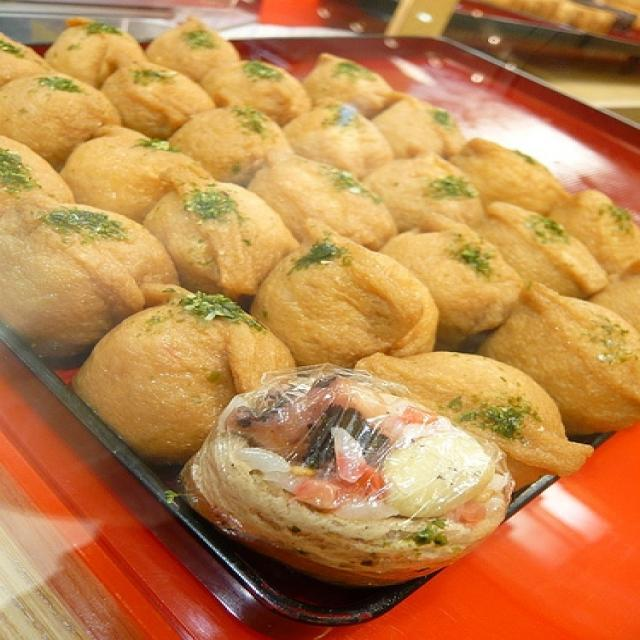寿司卷物: (2, 10, 633, 618)
